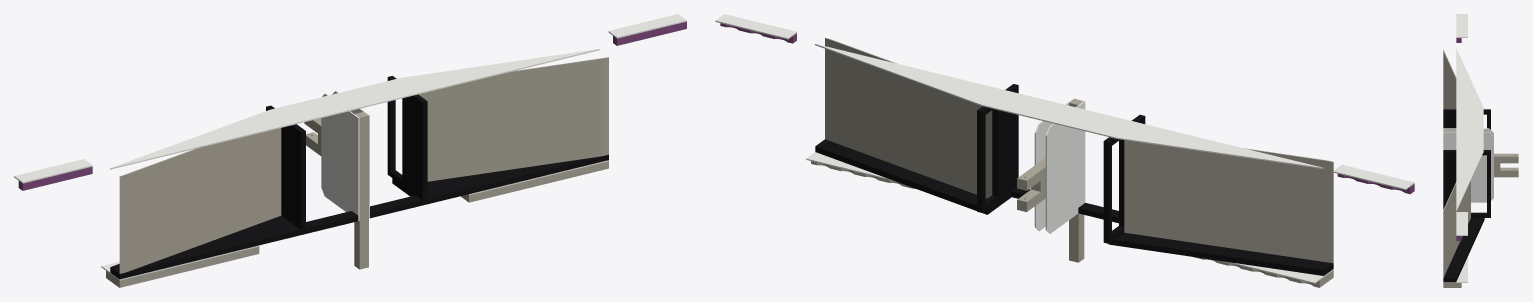
Rendered from balance.dae.
3 views of the same model, side by side, from view 1: azimuth 30°, elevation 25°; view 2: azimuth 150°, elevation 25°; view 3: azimuth 270°, elevation 25° (orthographic). The views are drawn at different scales.
Parts seen in each view (by area): view 1: 5cb99196505c701592c00e30 (×18); view 2: 5cb99196505c701592c00e30 (×18); view 3: 5cb99196505c701592c00e30 (×15).
Part boxes in pixels (x1,y1,x2,y2): 5cb99196505c701592c00e30 (×18): [14, 14, 686, 287]; 5cb99196505c701592c00e30 (×18): [715, 14, 1414, 287]; 5cb99196505c701592c00e30 (×15): [1443, 14, 1518, 287].
Bounding box in the file's own units: 2.85 × 0.41 × 0.657.
